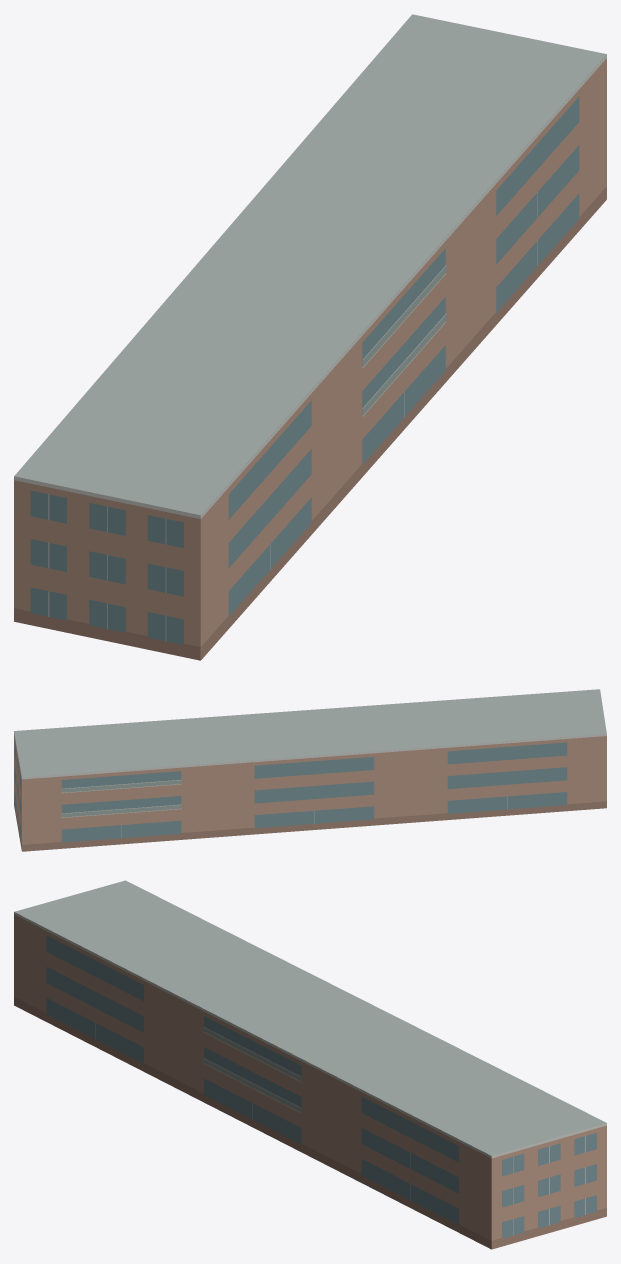
File: survey-upis-32756104.glb
3 views of the same model, one above another, from view 1: azimuth 30°, elevation 25°; view 2: azimuth 150°, elevation 25°; view 3: azimuth 270°, elevation 25° (orthographic). The views are drawn at different scales.
Visible parts, largest first — view 1: survey-upis-32756104.tmp; view 2: survey-upis-32756104.tmp; view 3: survey-upis-32756104.tmp.
Part boxes in pixels (x1,y1,x2,y2): survey-upis-32756104.tmp: [14, 14, 606, 660]; survey-upis-32756104.tmp: [14, 689, 606, 851]; survey-upis-32756104.tmp: [14, 880, 606, 1249].
Size of the model in its own units: 57.77 by 9.15 by 52.54.
